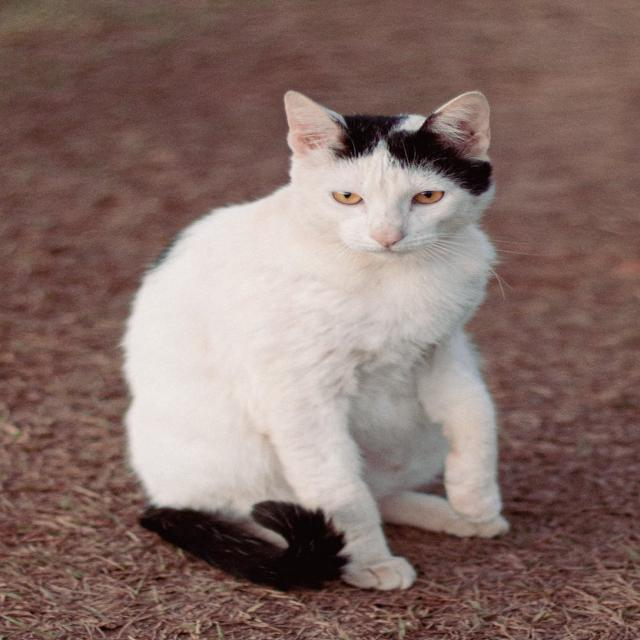cat: (108, 78, 532, 600)
